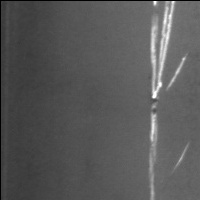scratches: (144, 2, 184, 200)
